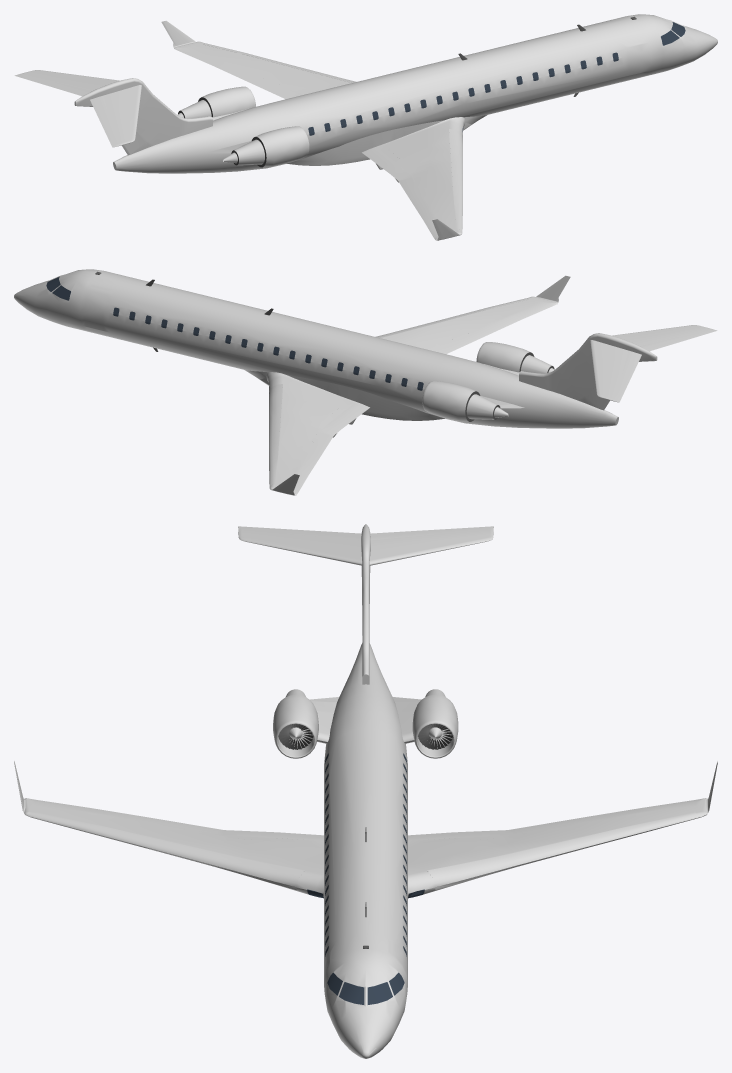
The model's file is crj7.glb.
3 renders of one model, top to bottom at view 1: azimuth 30°, elevation 25°; view 2: azimuth 150°, elevation 25°; view 3: azimuth 270°, elevation 25°, orthographic. The views are drawn at different scales.
Visible parts, largest first — view 1: body, glass; view 2: body, glass; view 3: body, glass, trim.
Boxes of the visible parts, box(x1,y1,x2,y2) form: body: box(14, 14, 717, 240); glass: box(308, 22, 685, 135); body: box(14, 269, 717, 495); glass: box(46, 277, 423, 390); body: box(14, 524, 717, 1058); glass: box(307, 753, 424, 1004); trim: box(278, 724, 452, 948).
Size of the model in its own units: 2.2 by 0.4129 by 1.58.
